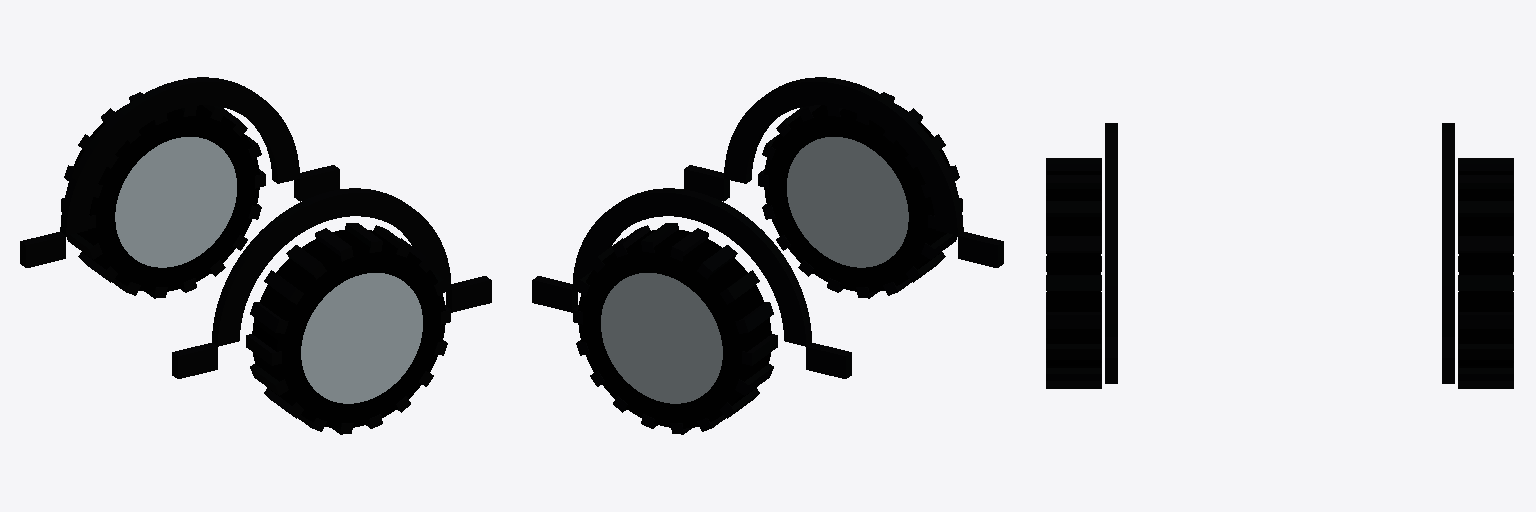
The robot description file, URDF, robot "two_wheel_base":
<?xml version="1.0"?>
<robot name="two_wheel_base">
  <!-- Dimensions: wheel diameter 0.20 m, wheel center separation 0.38 m. -->

  <material name="shell_graphite">
    <color rgba="0.19 0.23 0.27 1.0"/>
  </material>
  <material name="bumper_black">
    <color rgba="0.025 0.027 0.030 1.0"/>
  </material>
  <material name="tire_black">
    <color rgba="0.005 0.005 0.005 1.0"/>
  </material>
  <material name="rim_metal">
    <color rgba="0.68 0.72 0.74 1.0"/>
  </material>

  <link name="base_link">
    <inertial>
      <origin xyz="0 0 0.14" rpy="0 0 0"/>
      <mass value="8.0"/>
      <inertia ixx="0.0323" ixy="0" ixz="0" iyy="0.1320" iyz="0" izz="0.1493"/>
    </inertial>
    <visual name="base_shell">
      <origin xyz="0 0 0" rpy="0 0 0"/>
      <geometry>
        <mesh filename="meshes/base_shell.ply"/>
      </geometry>
    </visual>
    <visual name="left_wheel_fender">
      <origin xyz="0 0.155 0.10" rpy="0 0 0"/>
      <geometry>
        <mesh filename="meshes/wheel_fender.stl"/>
      </geometry>
      <material name="bumper_black"/>
    </visual>
    <visual name="right_wheel_fender">
      <origin xyz="0 -0.155 0.10" rpy="0 0 0"/>
      <geometry>
        <mesh filename="meshes/wheel_fender.stl"/>
      </geometry>
      <material name="bumper_black"/>
    </visual>
    <collision>
      <origin xyz="0 0 0.13" rpy="0 0 0"/>
      <geometry>
        <box size="0.48 0.30 0.13"/>
      </geometry>
    </collision>
  </link>

  <link name="left_wheel_link">
    <inertial>
      <origin xyz="0 0 0" rpy="0 0 0"/>
      <mass value="0.75"/>
      <inertia ixx="0.00203" ixy="0" ixz="0" iyy="0.00375" iyz="0" izz="0.00203"/>
    </inertial>
    <visual name="left_tire">
      <origin xyz="0 0 0" rpy="0 0 0"/>
      <geometry>
        <mesh filename="meshes/wheel_tire.stl"/>
      </geometry>
      <material name="tire_black"/>
    </visual>
    <visual name="left_treads">
      <origin xyz="0 0 0" rpy="0 0 0"/>
      <geometry>
        <mesh filename="meshes/wheel_treads.stl"/>
      </geometry>
      <material name="bumper_black"/>
    </visual>
    <visual name="left_rim">
      <origin xyz="0 0 0" rpy="0 0 0"/>
      <geometry>
        <mesh filename="meshes/wheel_rim.stl"/>
      </geometry>
      <material name="rim_metal"/>
    </visual>
    <collision>
      <origin xyz="0 0 0" rpy="1.57079632679 0 0"/>
      <geometry>
        <cylinder radius="0.10" length="0.05"/>
      </geometry>
    </collision>
  </link>

  <link name="right_wheel_link">
    <inertial>
      <origin xyz="0 0 0" rpy="0 0 0"/>
      <mass value="0.75"/>
      <inertia ixx="0.00203" ixy="0" ixz="0" iyy="0.00375" iyz="0" izz="0.00203"/>
    </inertial>
    <visual name="right_tire">
      <origin xyz="0 0 0" rpy="0 0 0"/>
      <geometry>
        <mesh filename="meshes/wheel_tire.stl"/>
      </geometry>
      <material name="tire_black"/>
    </visual>
    <visual name="right_treads">
      <origin xyz="0 0 0" rpy="0 0 0"/>
      <geometry>
        <mesh filename="meshes/wheel_treads.stl"/>
      </geometry>
      <material name="bumper_black"/>
    </visual>
    <visual name="right_rim">
      <origin xyz="0 0 0" rpy="0 0 0"/>
      <geometry>
        <mesh filename="meshes/wheel_rim.stl"/>
      </geometry>
      <material name="rim_metal"/>
    </visual>
    <collision>
      <origin xyz="0 0 0" rpy="1.57079632679 0 0"/>
      <geometry>
        <cylinder radius="0.10" length="0.05"/>
      </geometry>
    </collision>
  </link>

  <joint name="left_wheel_joint" type="continuous">
    <parent link="base_link"/>
    <child link="left_wheel_link"/>
    <origin xyz="0 0.19 0.10" rpy="0 0 0"/>
    <axis xyz="0 1 0"/>
  </joint>

  <joint name="right_wheel_joint" type="continuous">
    <parent link="base_link"/>
    <child link="right_wheel_link"/>
    <origin xyz="0 -0.19 0.10" rpy="0 0 0"/>
    <axis xyz="0 1 0"/>
  </joint>
</robot>

--- Facts derived from the render (not from the file) ---
3 views of the same robot in one strip: view 1: azimuth 30°, elevation 25°; view 2: azimuth 150°, elevation 25°; view 3: azimuth 270°, elevation 25° (orthographic).
Robot: two_wheel_base — 3 links, 2 joints (2 continuous); root link base_link; default pose: all joints at 0.
Links seen in each view (by area): view 1: right_wheel_link, left_wheel_link, base_link; view 2: left_wheel_link, right_wheel_link, base_link; view 3: left_wheel_link, right_wheel_link, base_link.
Link boxes in pixels (x1,y1,x2,y2): right_wheel_link: (246, 223, 450, 434); left_wheel_link: (61, 92, 265, 298); base_link: (20, 77, 491, 378); left_wheel_link: (573, 223, 777, 434); right_wheel_link: (758, 92, 962, 298); base_link: (532, 77, 1003, 378); left_wheel_link: (1458, 158, 1513, 388); right_wheel_link: (1046, 158, 1101, 388); base_link: (1105, 123, 1454, 383).
Bounding box of the posed robot: 0.37 × 0.434 × 0.2436 m (x, y, z).
8 mesh visuals loaded from 5 distinct referenced files (4 ASCII STL); not drawn: 1 (reference not matched to a file when rendering).
